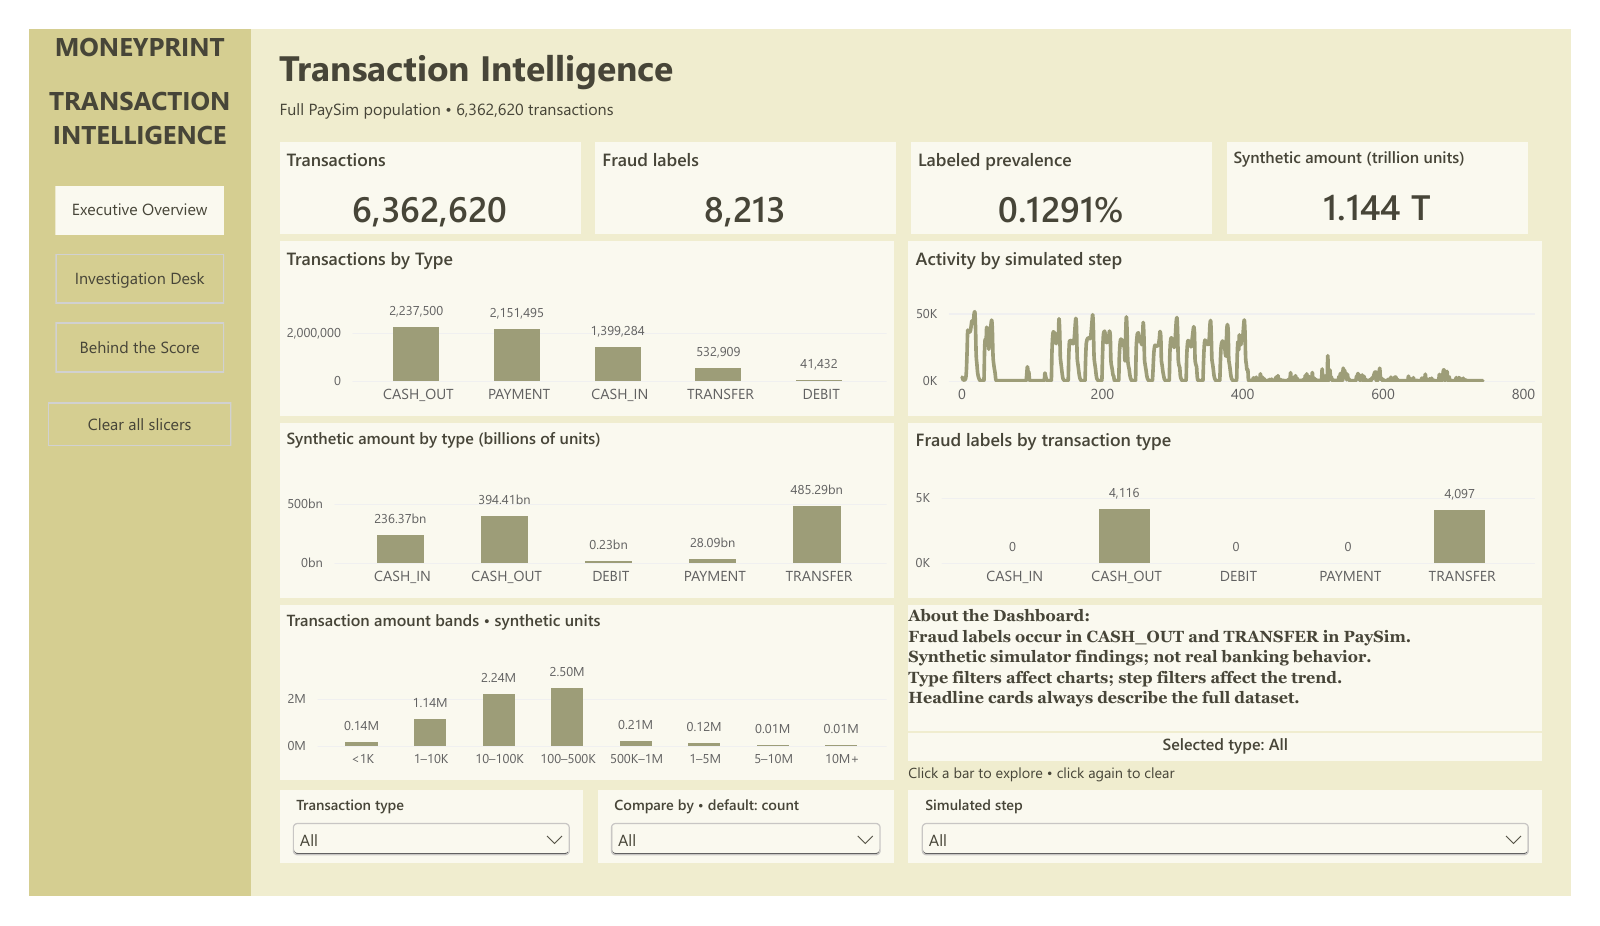

Layout of this report page (visuals, bound fields, positions):
{"tool":"powerbi","page":{"name":"Executive Overview","canvas":[1280,720],"ordinal":0},"visuals":[{"type":"textbox","box":[0,0,184,720],"z":0},{"type":"pageNavigator","box":[16,126,152,164],"z":1},{"type":"textbox","box":[16,500,152,150],"z":3},{"type":"textbox","box":[208,12,1048,50],"z":4},{"type":"textbox","box":[208,694,1048,24],"z":5},{"type":"textbox","box":[208,58,1048,24],"z":6},{"type":"card","title":"Transactions","fields":{"Values":["executive_kpi_summary.Transactions Display"]},"box":[208,94,250,76],"z":7},{"type":"card","title":"Fraud labels","fields":{"Values":["executive_kpi_summary.Fraud Labels"]},"box":[470,94,250,76],"z":8},{"type":"card","title":"Labeled prevalence","fields":{"Values":["executive_kpi_summary.Fraud Label Prevalence"]},"box":[732,94,250,76],"z":9},{"type":"card","title":"Synthetic amount (trillion units)","fields":{"Values":["executive_kpi_summary.Amount Display"]},"box":[994,94,250,76],"z":10},{"type":"clusteredColumnChart","fields":{"Category":["dim_transaction_type.transaction_type"],"Y":["executive_kpi_summary.Comparison Value"]},"box":[208,176,510,145],"z":11},{"type":"lineChart","title":"Activity by simulated step","fields":{"Category":["dim_simulated_step.simulated_step"],"Y":["transaction_trends_by_step.transaction_count.0"]},"box":[730,176,526,145],"z":12},{"type":"clusteredColumnChart","title":"Synthetic amount by type (billions of units)","fields":{"Category":["dim_transaction_type.transaction_type"],"Y":["transaction_type_overview.total_synthetic_amount.0"]},"box":[208,327,510,145],"z":13},{"type":"clusteredColumnChart","title":"Fraud labels by transaction type","fields":{"Category":["dim_transaction_type.transaction_type"],"Y":["fraud_by_transaction_type.fraud_count.0"]},"box":[730,327,526,145],"z":14},{"type":"clusteredColumnChart","title":"Transaction amount bands • synthetic units","fields":{"Category":["transaction_amount_distribution.Amount Band Label"],"Y":["transaction_amount_distribution.transaction_count.0"]},"box":[208,478,510,145],"z":15},{"type":"textbox","box":[730,478,526,105],"z":16},{"type":"slicer","fields":{"Values":["dim_transaction_type.transaction_type"]},"box":[208,632,252,60],"z":17},{"type":"slicer","fields":{"Values":["dim_simulated_step.simulated_step"]},"box":[730,632,526,60],"z":18},{"type":"actionButton","box":[16,310,152,36],"z":30},{"type":"slicer","fields":{"Values":["ux_metric_selector.Metric"]},"box":[472,632,246,60],"z":51},{"type":"card","fields":{"Values":["executive_kpi_summary.Selected Type Label"]},"box":[730,584,526,24],"z":52},{"type":"textbox","box":[730,608,526,18],"z":53}]}

Visuals, with their boxes in screenshot pixels (x1, y1, x2, y2), scaled from the page's 1280x720 canvas onto the 1600x926 screenshot:
textbox: locate(0, 0, 230, 925)
pageNavigator: locate(20, 162, 210, 373)
textbox: locate(20, 643, 210, 836)
textbox: locate(260, 15, 1570, 80)
textbox: locate(260, 893, 1570, 923)
textbox: locate(260, 75, 1570, 105)
"Transactions" card: locate(260, 121, 572, 219)
"Fraud labels" card: locate(588, 121, 900, 219)
"Labeled prevalence" card: locate(915, 121, 1228, 219)
"Synthetic amount (trillion units)" card: locate(1242, 121, 1555, 219)
clusteredColumnChart - dim_transaction_type.transaction_type x executive_kpi_summary.Comparison Value: locate(260, 226, 898, 413)
"Activity by simulated step" lineChart: locate(912, 226, 1570, 413)
"Synthetic amount by type (billions of units)" clusteredColumnChart: locate(260, 421, 898, 607)
"Fraud labels by transaction type" clusteredColumnChart: locate(912, 421, 1570, 607)
"Transaction amount bands • synthetic units" clusteredColumnChart: locate(260, 615, 898, 801)
textbox: locate(912, 615, 1570, 750)
slicer - dim_transaction_type.transaction_type: locate(260, 813, 575, 890)
slicer - dim_simulated_step.simulated_step: locate(912, 813, 1570, 890)
actionButton: locate(20, 399, 210, 445)
slicer - ux_metric_selector.Metric: locate(590, 813, 898, 890)
card - executive_kpi_summary.Selected Type Label: locate(912, 751, 1570, 782)
textbox: locate(912, 782, 1570, 805)
